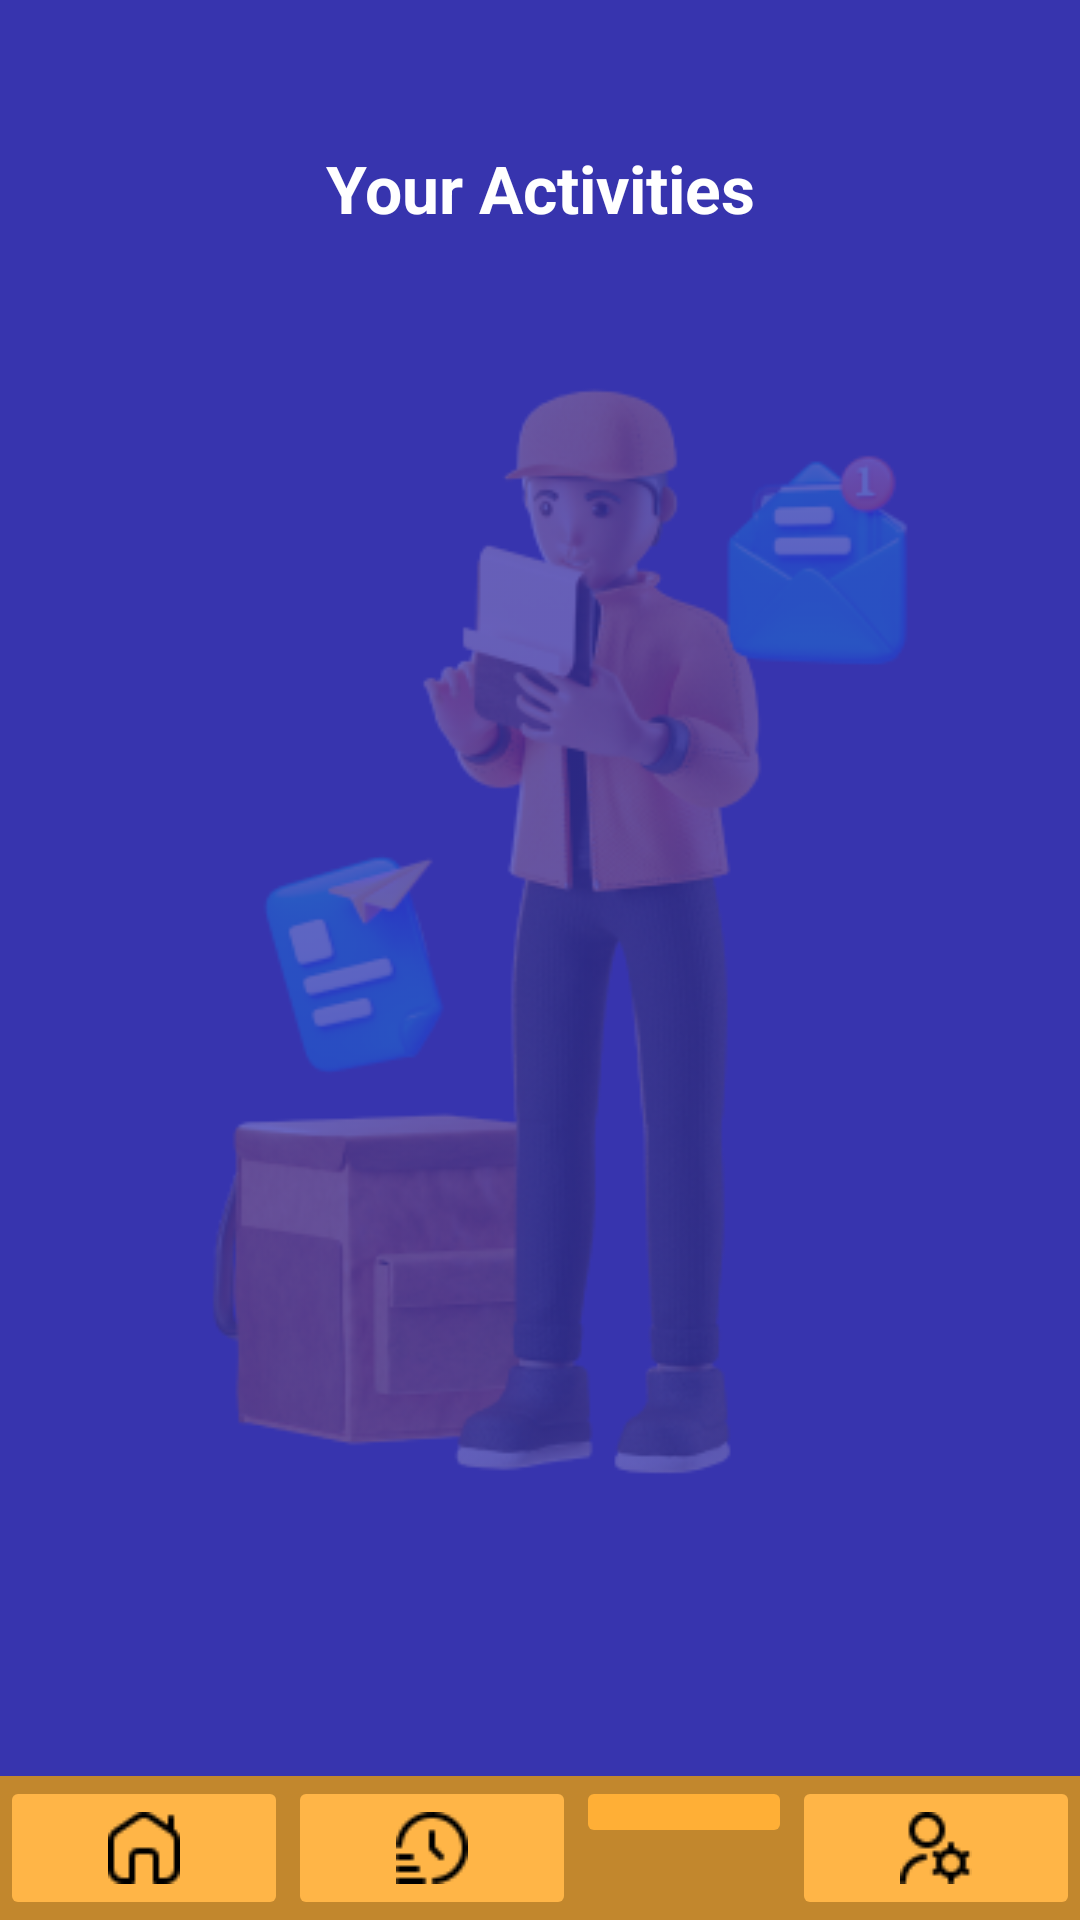

Locate icon controls on the screen. Image size 1080x1920, boxes as [x1,y1,x2,y2].
Activity: [300,1794,564,1902]
Home: [12,1794,276,1902]
Profile: [804,1794,1068,1902]
